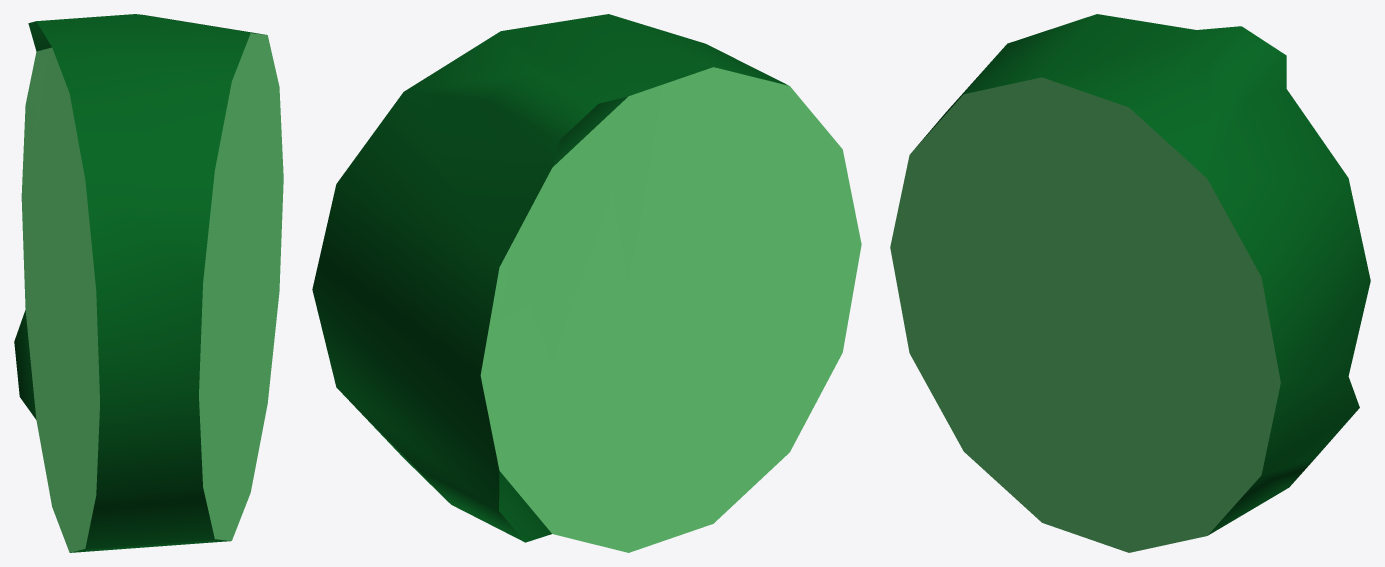
File: mesh_PickleSlice_Stage12.fbx
3 views of the same model, side by side, from view 1: azimuth 30°, elevation 25°; view 2: azimuth 150°, elevation 25°; view 3: azimuth 270°, elevation 25° (orthographic). The views are drawn at different scales.
Visible parts, largest first — view 1: mesh_PickleSlice_Stage12; view 2: mesh_PickleSlice_Stage12; view 3: mesh_PickleSlice_Stage12.
Part boxes in pixels (<box>): mesh_PickleSlice_Stage12: <box>14,14,283,552</box>; mesh_PickleSlice_Stage12: <box>312,14,861,552</box>; mesh_PickleSlice_Stage12: <box>890,14,1370,552</box>.
Size of the model in its own units: 0.0272 by 0.033 by 0.0318.
